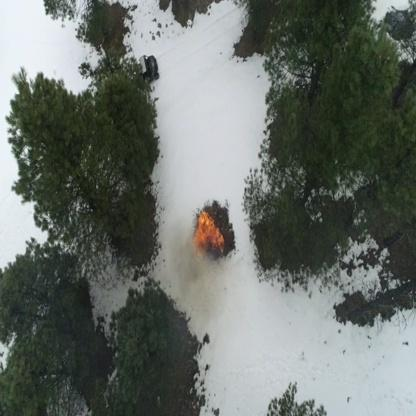Fire: (192, 208, 225, 261)
